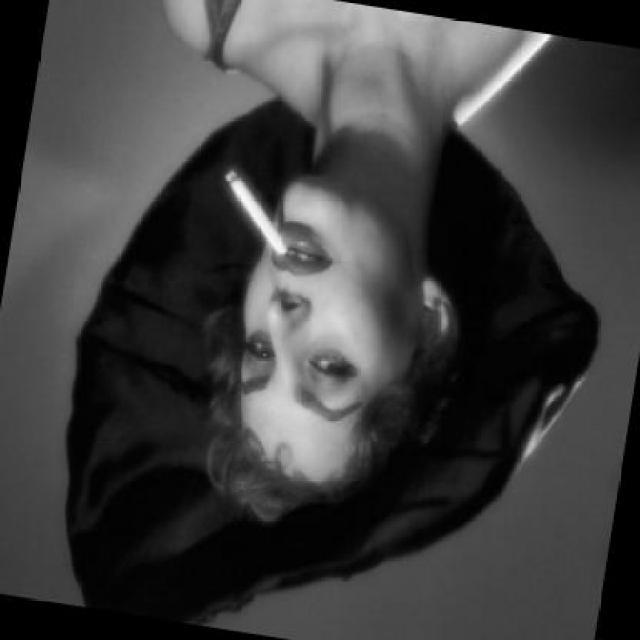cigarette: (211, 164, 297, 258)
